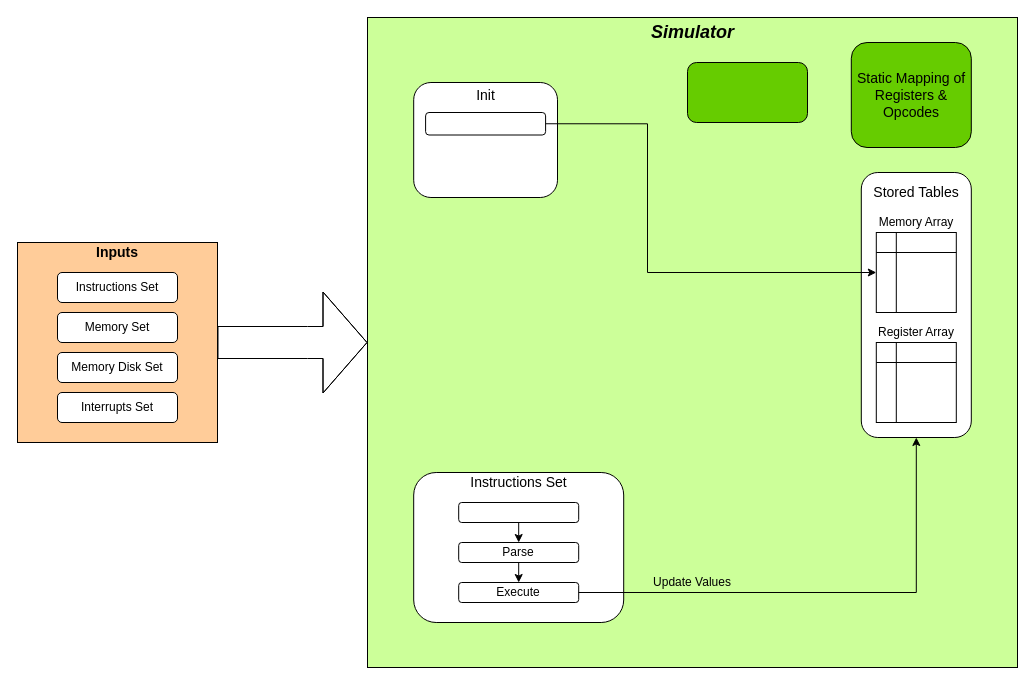
Image size: 1035x685. Some labels were removed from this diagram. The shapes that lost their labels are listed below. From the top down, each one's box as (x1, y1, x2, y2) in pixels, then its label:
(686, 62, 808, 122): Program Counter
(425, 112, 546, 135): Memory
(458, 502, 579, 522): Read
